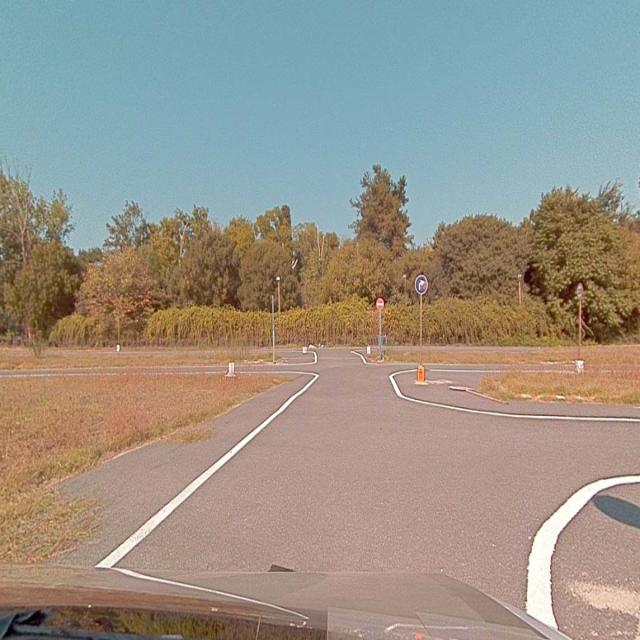girisyok: (376, 298, 384, 309)
sag: (415, 276, 428, 294)
